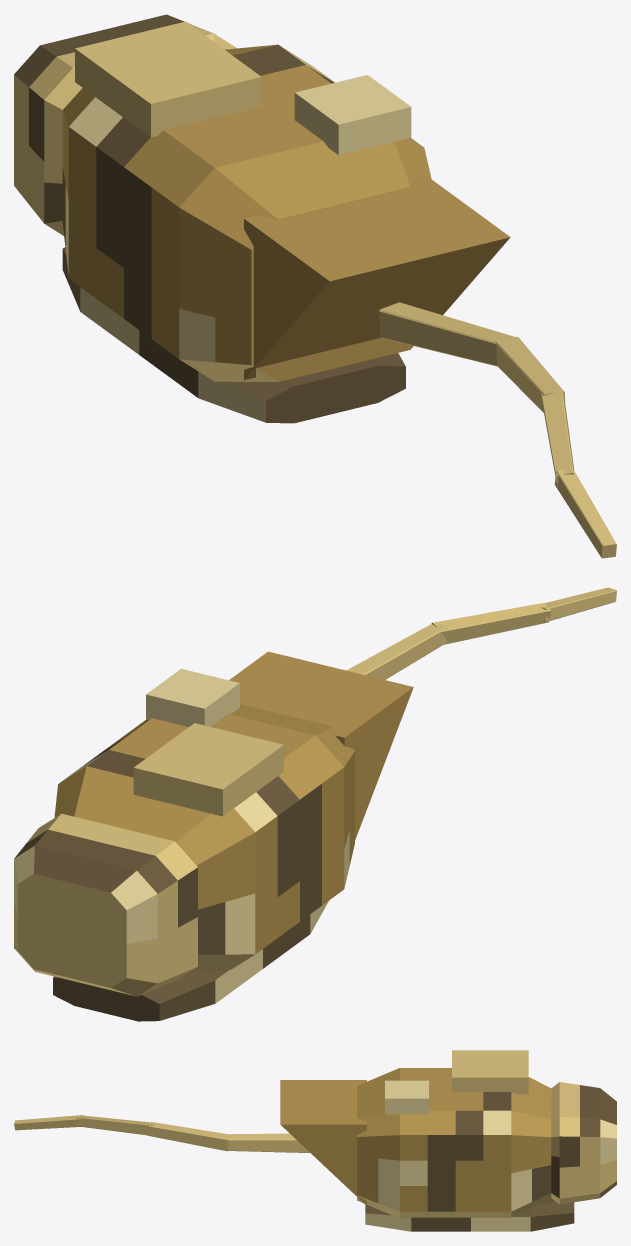
The model's file is Bacterivore.gltf.
The picture shows the model from 3 angles, top to bottom: view 1: azimuth 30°, elevation 25°; view 2: azimuth 150°, elevation 25°; view 3: azimuth 270°, elevation 25°; orthographic projection. The views are drawn at different scales.
Visible parts, largest first — view 1: Root, Flagellum0, Flagellum1, Flagellum3, Flagellum2; view 2: Root, Flagellum2, Flagellum1, Flagellum3; view 3: Root, Flagellum0, Flagellum1, Flagellum2, Flagellum3.
Boxes of the visible parts, bbox=[...] form: Root: bbox=[14, 14, 510, 423]; Flagellum0: bbox=[379, 302, 519, 366]; Flagellum1: bbox=[495, 336, 565, 412]; Flagellum3: bbox=[555, 469, 616, 558]; Flagellum2: bbox=[540, 387, 574, 490]; Root: bbox=[14, 651, 413, 1021]; Flagellum2: bbox=[431, 603, 550, 644]; Flagellum1: bbox=[346, 622, 447, 679]; Flagellum3: bbox=[541, 587, 616, 622]; Root: bbox=[280, 1050, 616, 1231]; Flagellum0: bbox=[224, 1133, 309, 1152]; Flagellum1: bbox=[148, 1122, 230, 1151]; Flagellum2: bbox=[76, 1115, 154, 1135]; Flagellum3: bbox=[14, 1115, 83, 1130].
Bounding box in the file's own units: 0.84 × 0.905 × 3.55.
1 material, 1 textured.
